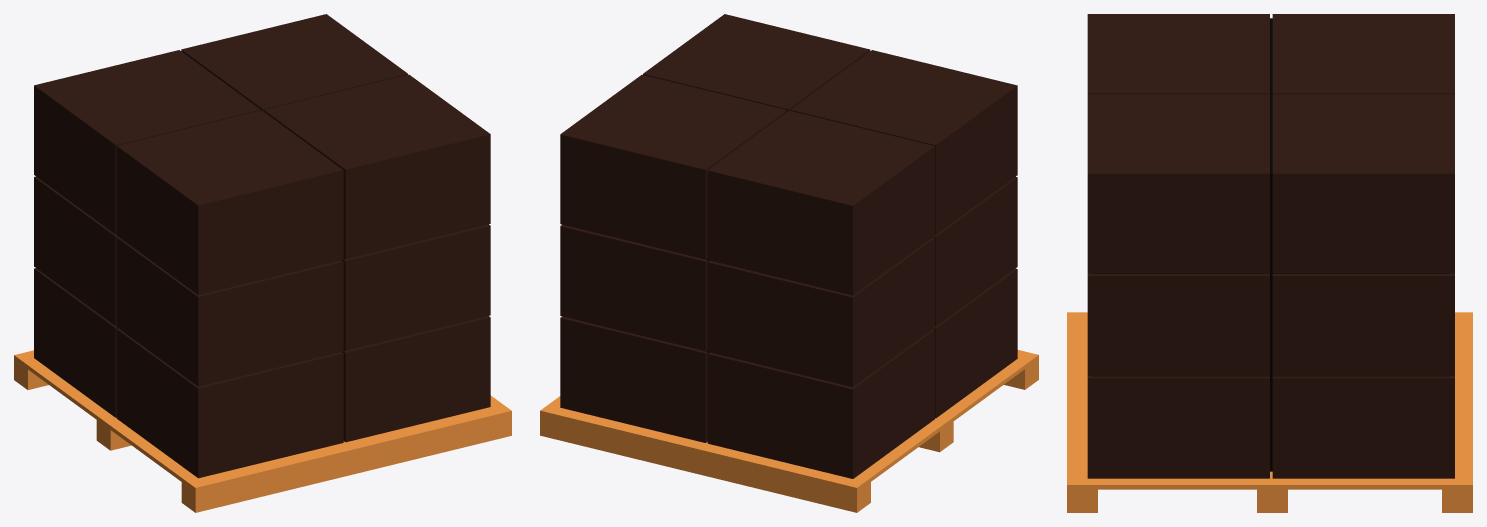
3 renders of one model, left to right at view 1: azimuth 30°, elevation 25°; view 2: azimuth 150°, elevation 25°; view 3: azimuth 270°, elevation 25°, orthographic. The views are drawn at different scales.
Parts seen in each view (by area): view 1: group1504080176, group907054596, group1385575828, group553363109, group1180126940, group879691417, group677024238, group1207741365, group884997475, group1871485012, group894602920, group763068098 (+2 smaller); view 2: group1180126940, group1207741365, group1871485012, group894602920, group1504080176, group1247911905, group1390556681, group907054596, group1488778429, group1385575828, group553363109, group763068098 (+2 smaller); view 3: group1207741365, group907054596, group1247911905, group677024238, group1390556681, group879691417, group1180126940, group1504080176, group884997475, group1488778429, group843210881, group1592700902 (+1 smaller).
Boxes of the visible parts, x1,y1,x2,y2 form: group1504080176: (116, 110, 343, 294); group907054596: (264, 74, 490, 258); group1385575828: (116, 328, 343, 478); group553363109: (116, 237, 343, 386); group1180126940: (34, 50, 260, 234); group879691417: (343, 224, 490, 350); group677024238: (343, 316, 490, 442); group1207741365: (181, 14, 407, 110); group884997475: (181, 401, 511, 512); group1871485012: (34, 176, 118, 325); group894602920: (34, 268, 118, 417); group763068098: (28, 362, 192, 482); group1180126940: (707, 110, 934, 295); group1207741365: (560, 74, 787, 259); group1871485012: (707, 237, 934, 387); group894602920: (707, 329, 934, 478); group1504080176: (790, 50, 1017, 234); group1247911905: (560, 316, 707, 442); group1390556681: (560, 224, 707, 351); group907054596: (643, 14, 870, 111); group1488778429: (540, 400, 870, 512); group1385575828: (933, 268, 1017, 418); group553363109: (933, 176, 1017, 326); group763068098: (859, 362, 1026, 481); group1207741365: (1272, 94, 1454, 273); group907054596: (1087, 94, 1269, 273); group1247911905: (1272, 376, 1454, 478); group677024238: (1087, 376, 1269, 478); group1390556681: (1272, 273, 1454, 375); group879691417: (1087, 273, 1269, 375); group1180126940: (1272, 14, 1454, 94); group1504080176: (1087, 14, 1269, 94); group884997475: (1067, 312, 1097, 512); group1488778429: (1442, 312, 1472, 512); group843210881: (1095, 478, 1441, 489); group1592700902: (1093, 18, 1449, 471).
Size of the model in its own units: 1.59 by 1.43 by 1.58.
